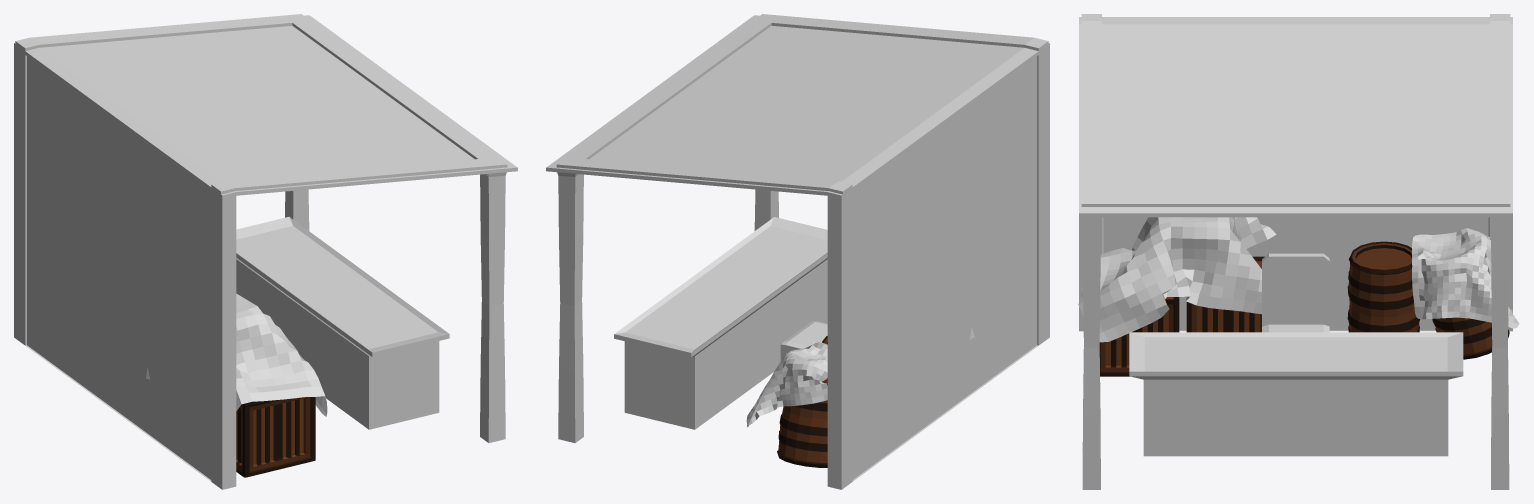
File: MarketStall V2.fbx
The picture shows the model from 3 angles, left to right: view 1: azimuth 30°, elevation 25°; view 2: azimuth 150°, elevation 25°; view 3: azimuth 270°, elevation 25°; orthographic projection. The views are drawn at different scales.
Visible parts, largest first — view 1: Cube, Cube.001, Grid, Cube.004; view 2: Cube, Cube.001, Grid.001, Cylinder, Cube.002; view 3: Cube, Cube.001, Grid, Grid.001, Cylinder.001, Cube.002, Cube.004, Cube.003, Cylinder.
Part boxes in pixels (left/top/right/bottom): Cube: left=14, top=14, right=517, bottom=489; Cube.001: left=236, top=216, right=449, bottom=429; Grid: left=146, top=293, right=327, bottom=416; Cube.004: left=236, top=397, right=315, bottom=477; Cube: left=546, top=14, right=1049, bottom=489; Cube.001: left=614, top=217, right=827, bottom=429; Grid.001: left=746, top=341, right=827, bottom=427; Cylinder: left=777, top=378, right=827, bottom=467; Cube.002: left=780, top=321, right=827, bottom=361; Cube: left=1079, top=14, right=1512, bottom=489; Cube.001: left=1129, top=332, right=1463, bottom=456; Grid: left=1078, top=217, right=1276, bottom=342; Grid.001: left=1412, top=228, right=1519, bottom=328; Cylinder.001: left=1347, top=241, right=1419, bottom=332; Cube.002: left=1262, top=253, right=1329, bottom=332; Cube.004: left=1099, top=297, right=1179, bottom=376; Cube.003: left=1186, top=256, right=1264, bottom=332; Cylinder: left=1432, top=317, right=1509, bottom=359.
Size of the model in its own units: 210 by 216 by 261.
